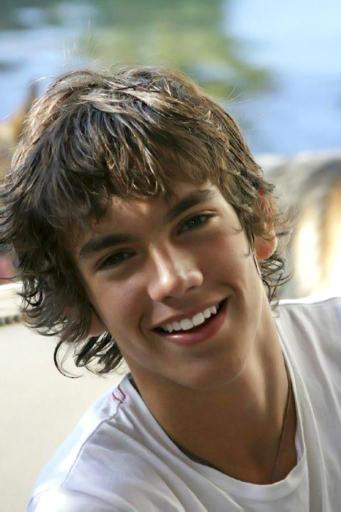left_eye: (176, 212, 222, 237)
left_lip_corner: (218, 293, 234, 309)
right_eye: (96, 249, 139, 276)
right_lip_corner: (145, 323, 169, 340)
